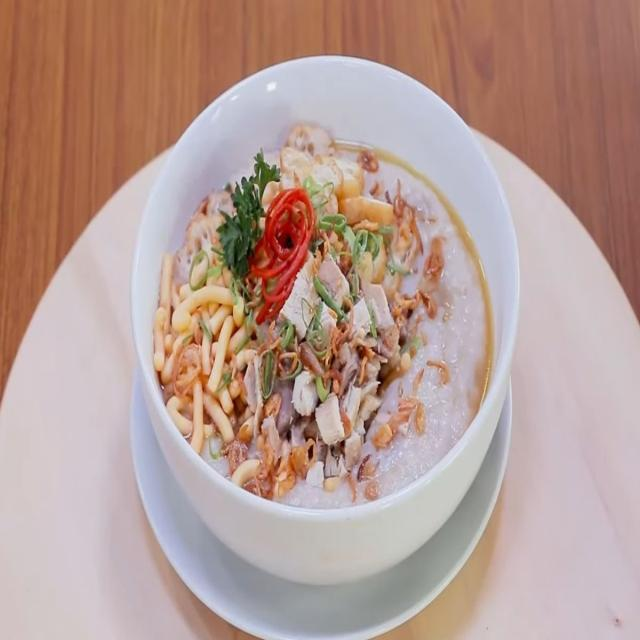bubur ayam: (153, 117, 494, 512)
mangkuk: (131, 55, 521, 588)
